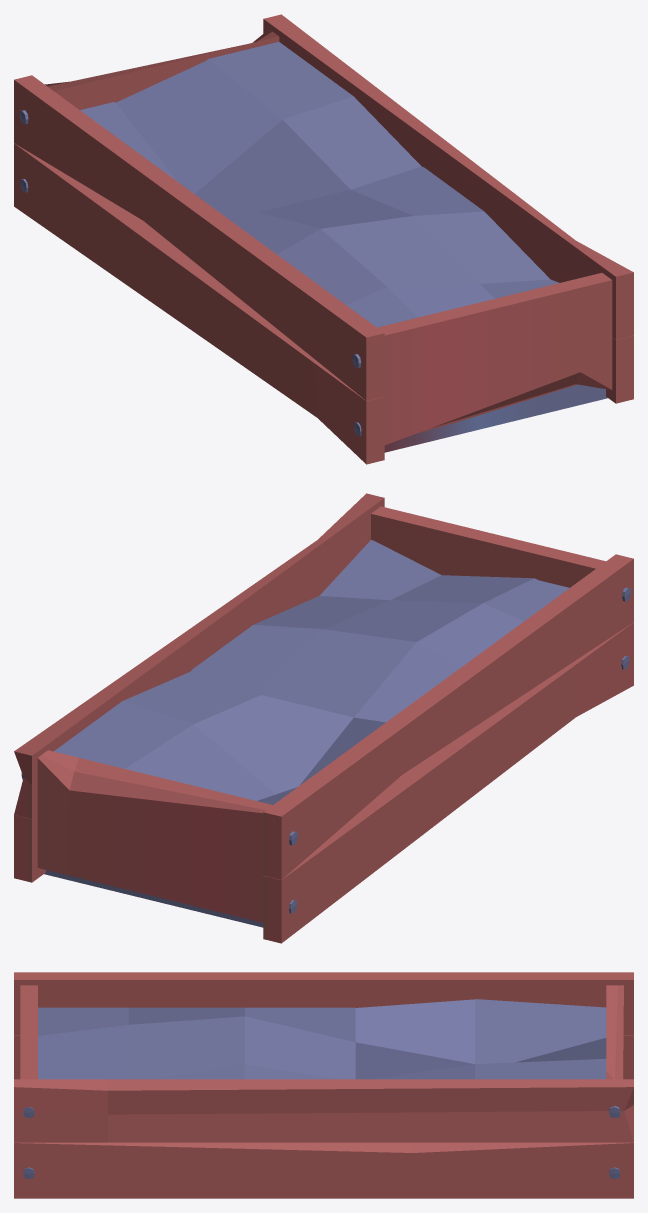
File: Backyard_Garden.fbx
The picture shows the model from 3 angles, top to bottom: view 1: azimuth 30°, elevation 25°; view 2: azimuth 150°, elevation 25°; view 3: azimuth 270°, elevation 25°; orthographic projection. The views are drawn at different scales.
Visible parts, largest first — view 1: Backyard_Garden; view 2: Backyard_Garden; view 3: Backyard_Garden.
Part boxes in pixels (x1,y1,x2,y2): Backyard_Garden: [14, 14, 633, 464]; Backyard_Garden: [14, 493, 633, 943]; Backyard_Garden: [14, 972, 633, 1198].
Bounding box in the file's own units: 91.1 × 41.3 × 204.
